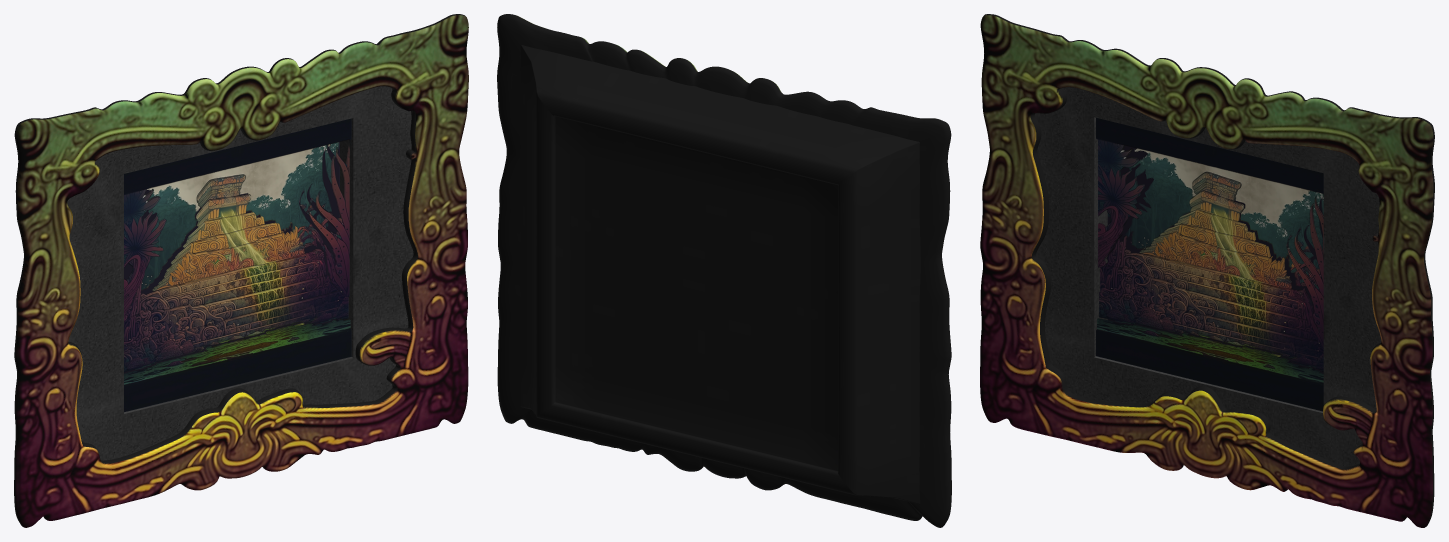
Rendered from innovarteca-49.glb.
The picture shows the model from 3 angles, left to right: view 1: azimuth 30°, elevation 25°; view 2: azimuth 150°, elevation 25°; view 3: azimuth 330°, elevation 25°; orthographic projection.
Visible parts, largest first — view 1: Marco1, Paper1, capa0, capa11, capa9, capa8, capa6, capa7, capa5, capa10, capa4, capa3 (+2 smaller); view 2: Marco1; view 3: Marco1, Paper1, capa0, capa11, capa9, capa8, capa6, capa7, capa5, capa10, capa4, capa3 (+2 smaller).
Part boxes in pixels (x1,y1,x2,y2): Marco1: [14, 14, 468, 527]; Paper1: [67, 86, 413, 460]; capa0: [124, 142, 339, 384]; capa11: [124, 118, 351, 412]; capa9: [124, 142, 349, 321]; capa8: [124, 291, 348, 372]; capa6: [126, 248, 327, 317]; capa7: [124, 275, 338, 346]; capa5: [152, 226, 305, 291]; capa10: [124, 319, 350, 384]; capa4: [170, 222, 283, 265]; capa3: [183, 212, 264, 247]; Marco1: [497, 14, 951, 527]; Marco1: [980, 14, 1434, 527]; Paper1: [1035, 87, 1381, 466]; capa0: [1107, 145, 1323, 382]; capa11: [1096, 118, 1323, 411]; capa9: [1098, 139, 1323, 349]; capa8: [1099, 291, 1323, 372]; capa6: [1105, 234, 1308, 319]; capa7: [1100, 265, 1316, 340]; capa5: [1139, 232, 1292, 289]; capa10: [1097, 318, 1323, 382]; capa4: [1159, 224, 1272, 257]; capa3: [1174, 209, 1256, 241].
Size of the model in its own units: 2.97 by 2.58 by 0.3677.
Materials: 14 (14 with a texture image).
